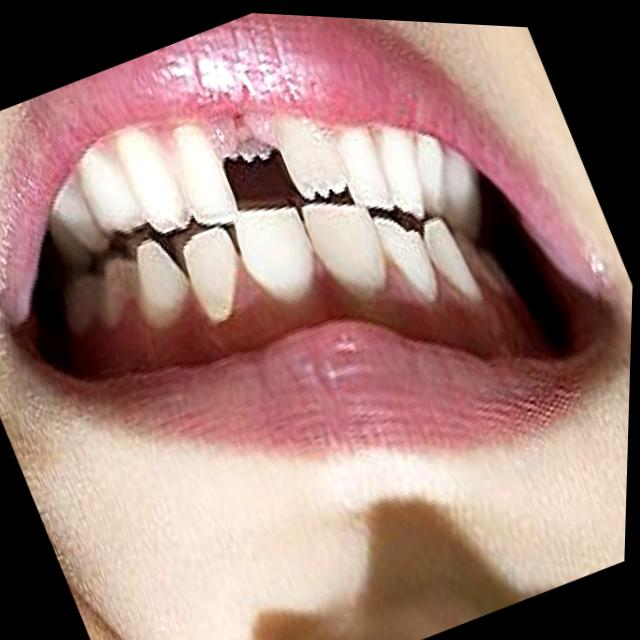hypodontia: (164, 110, 345, 221)
